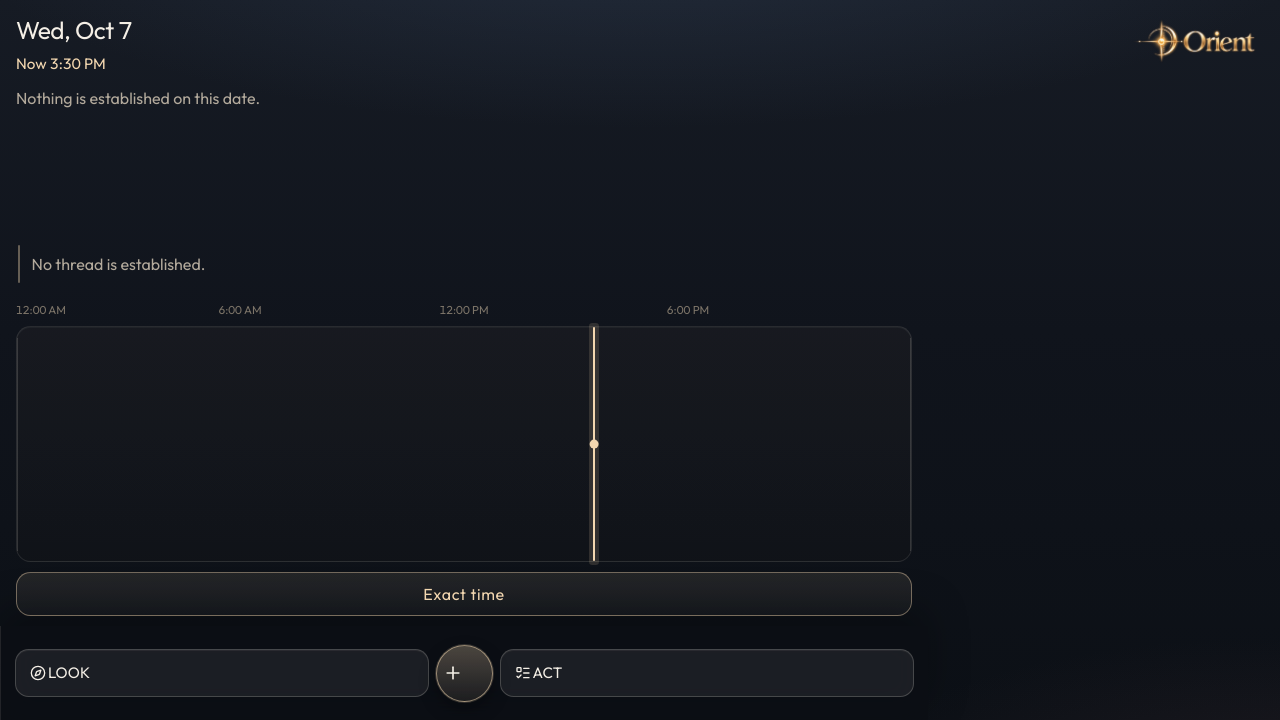
Test case: NOTE-RETURN-001 LOOK → Notes › keeps ADD → Note on DirectNoteSurface
Click the button named "ADD". click: [464, 673]
box: [436,645,493,702]
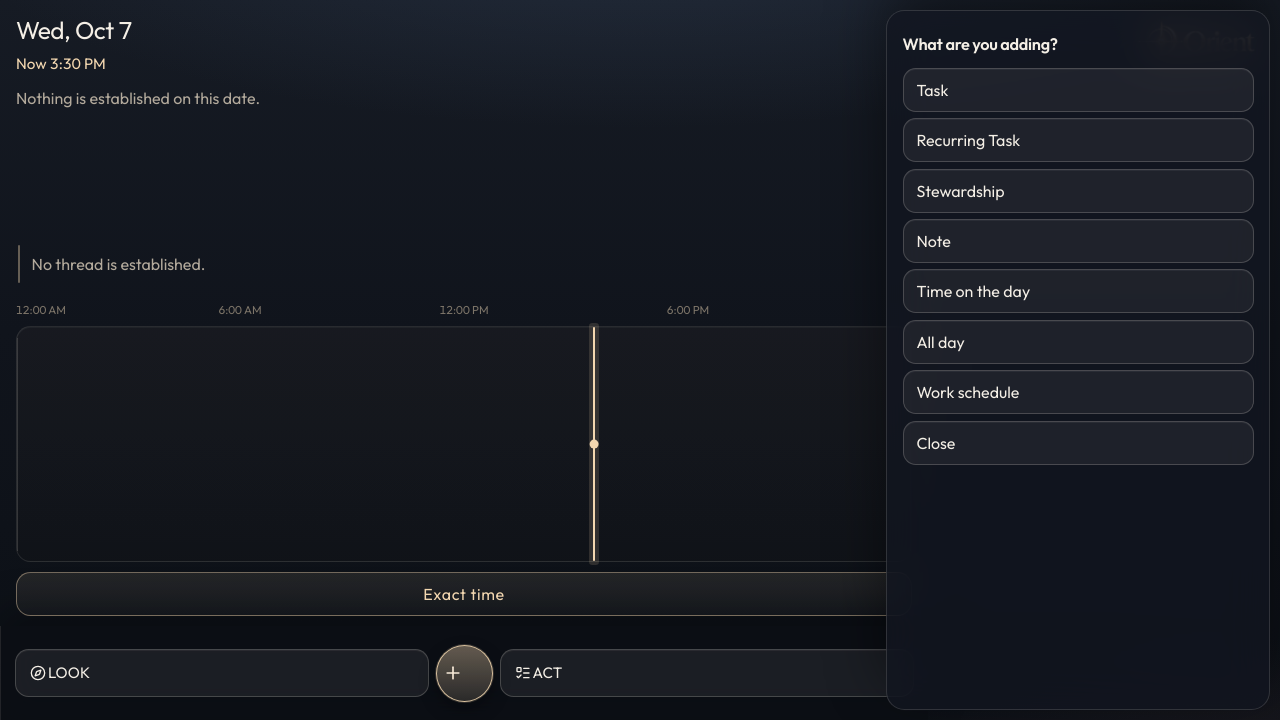
Click the button "Note". click: [934, 241]
box: [903,219,1254,263]
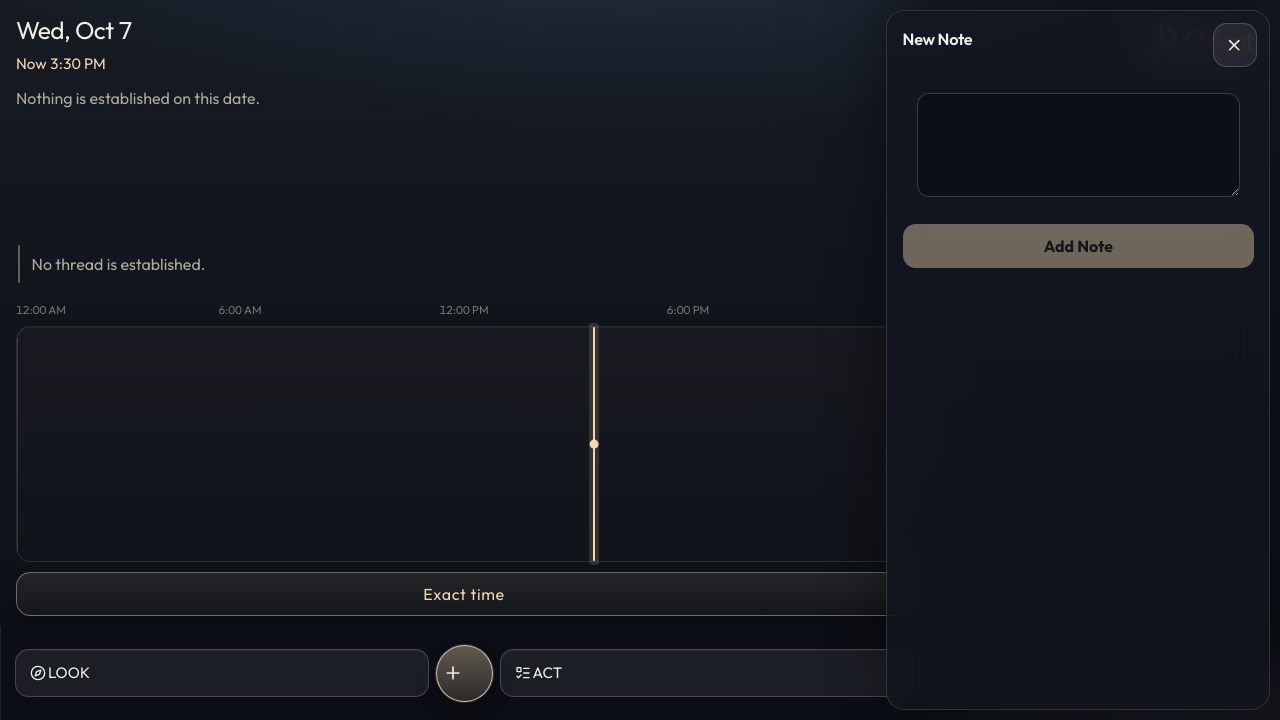
Now the element showing "New Note Add Note" is shown, box [903,27,1254,268]
